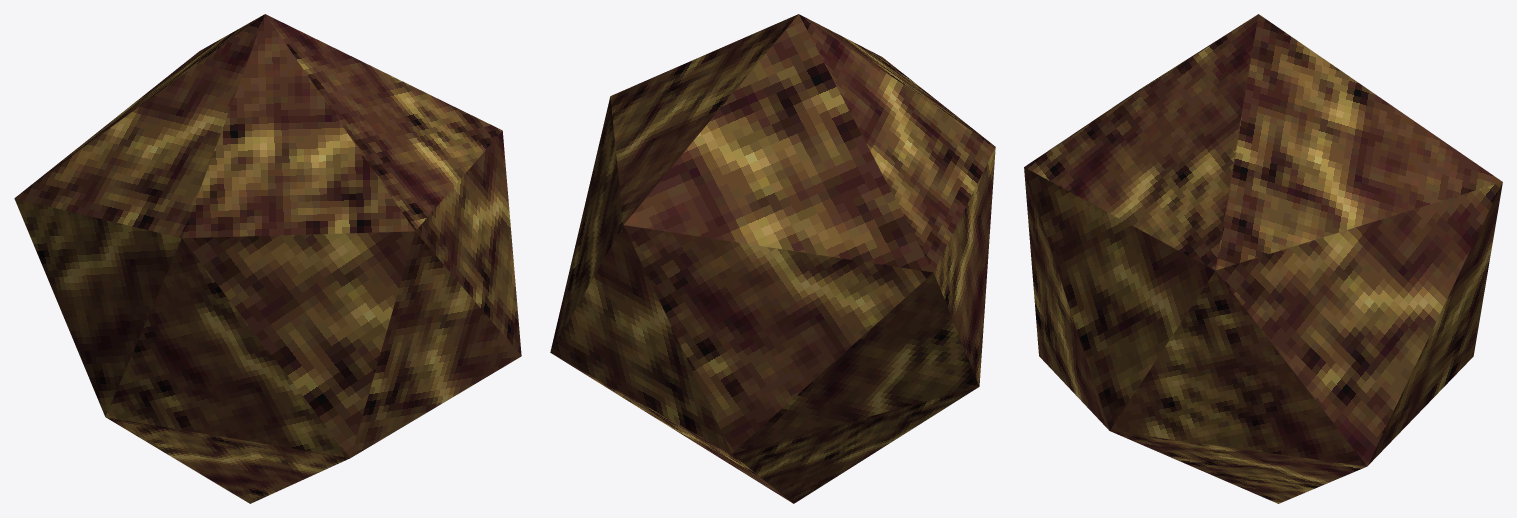
The model's file is big_brown_asteroid.fbx.
3 renders of one model, left to right at view 1: azimuth 30°, elevation 25°; view 2: azimuth 150°, elevation 25°; view 3: azimuth 270°, elevation 25°, orthographic. The views are drawn at different scales.
Parts seen in each view (by area): view 1: big_brown_asteroid; view 2: big_brown_asteroid; view 3: big_brown_asteroid.
Part boxes in pixels (bbox=[...]): big_brown_asteroid: bbox=[14, 14, 521, 503]; big_brown_asteroid: bbox=[550, 14, 995, 503]; big_brown_asteroid: bbox=[1024, 14, 1502, 503].
Bounding box in the file's own units: 27880 × 32181 × 28370.
1 material, 1 textured.
